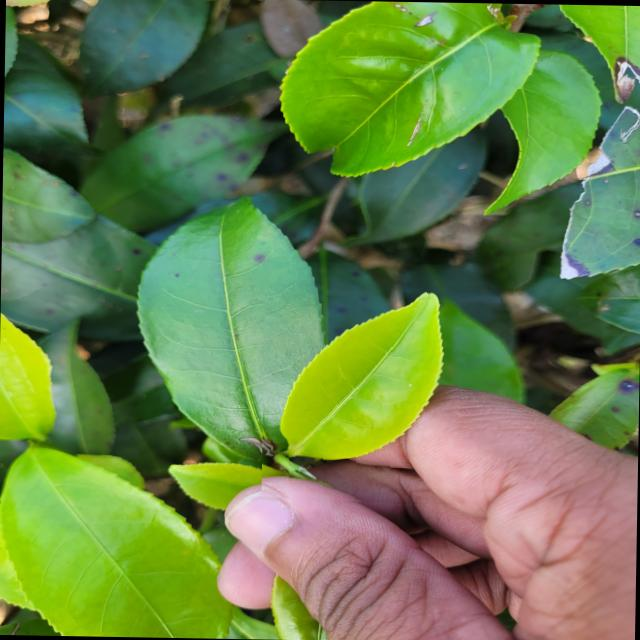Category B(2-4 days): (261, 261, 478, 507)
